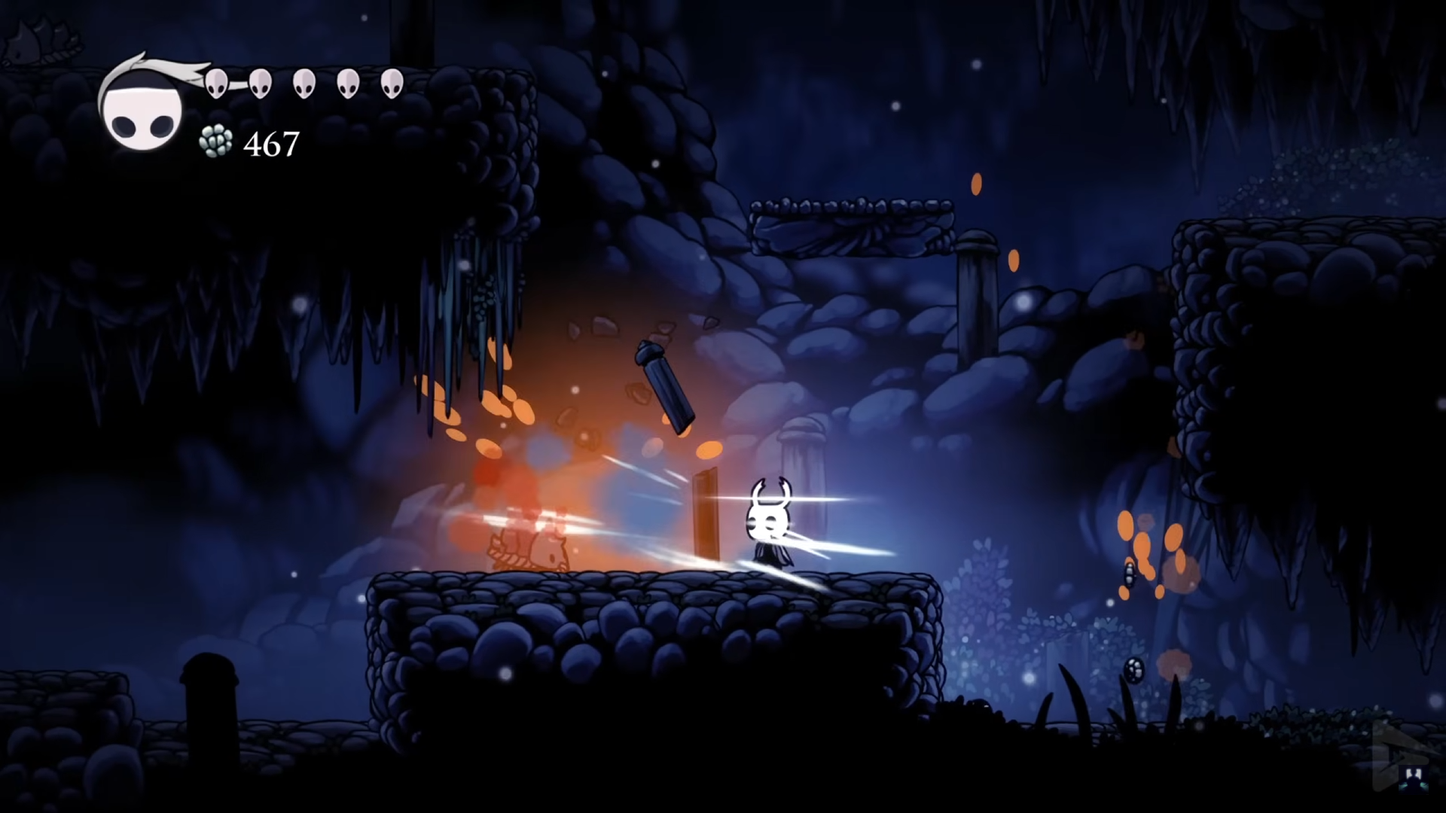HK: (740, 471, 796, 574)
